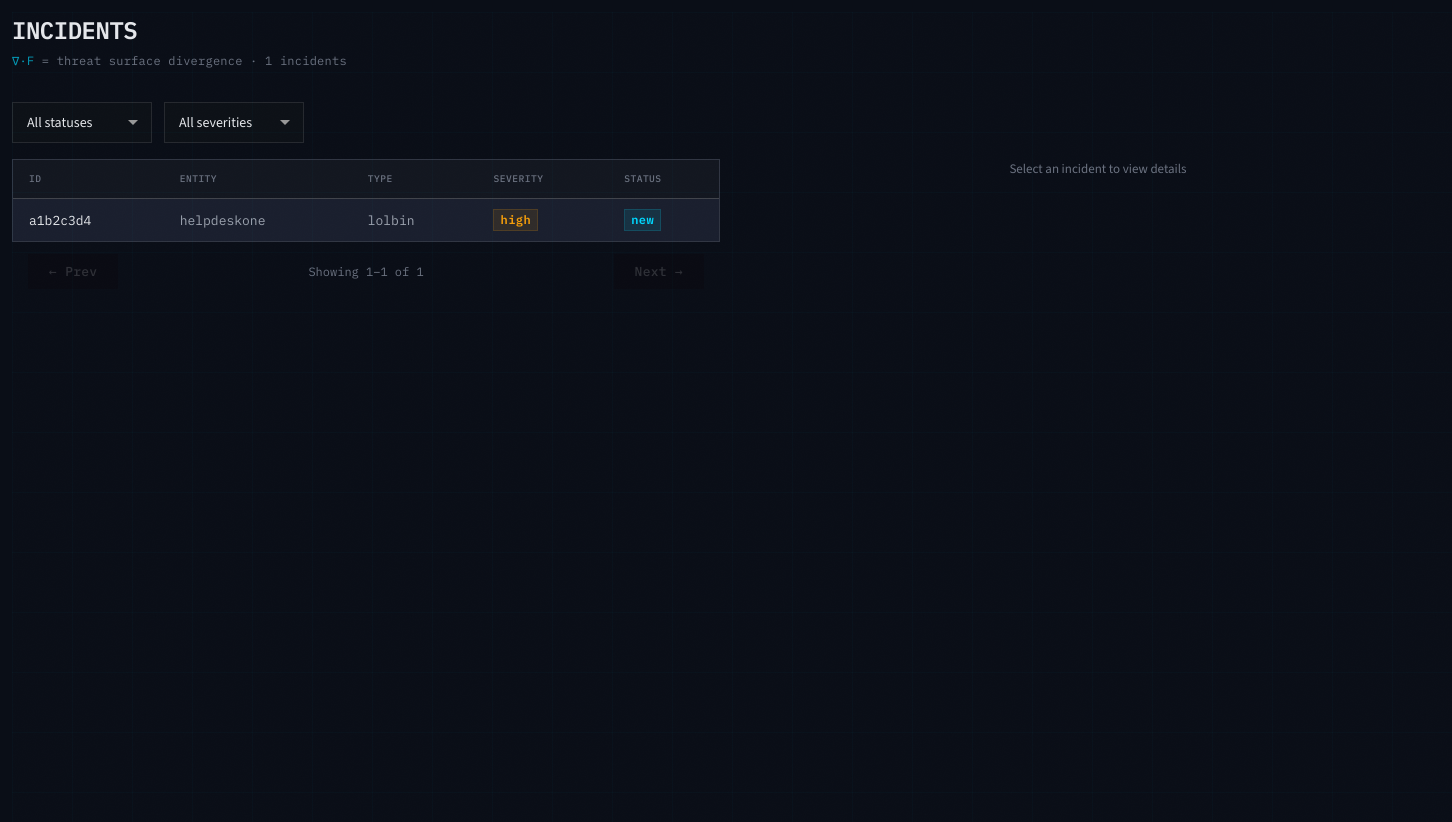
Test case: SupervisorReportCard (Phase 3, R-1/FR-1/D-10) › invalid: banner + deterministic description is authoritative
This screenshot has width=1452, height=822.
Click the text "helpdeskone".
click(258, 220)  # box [164,199,352,241]
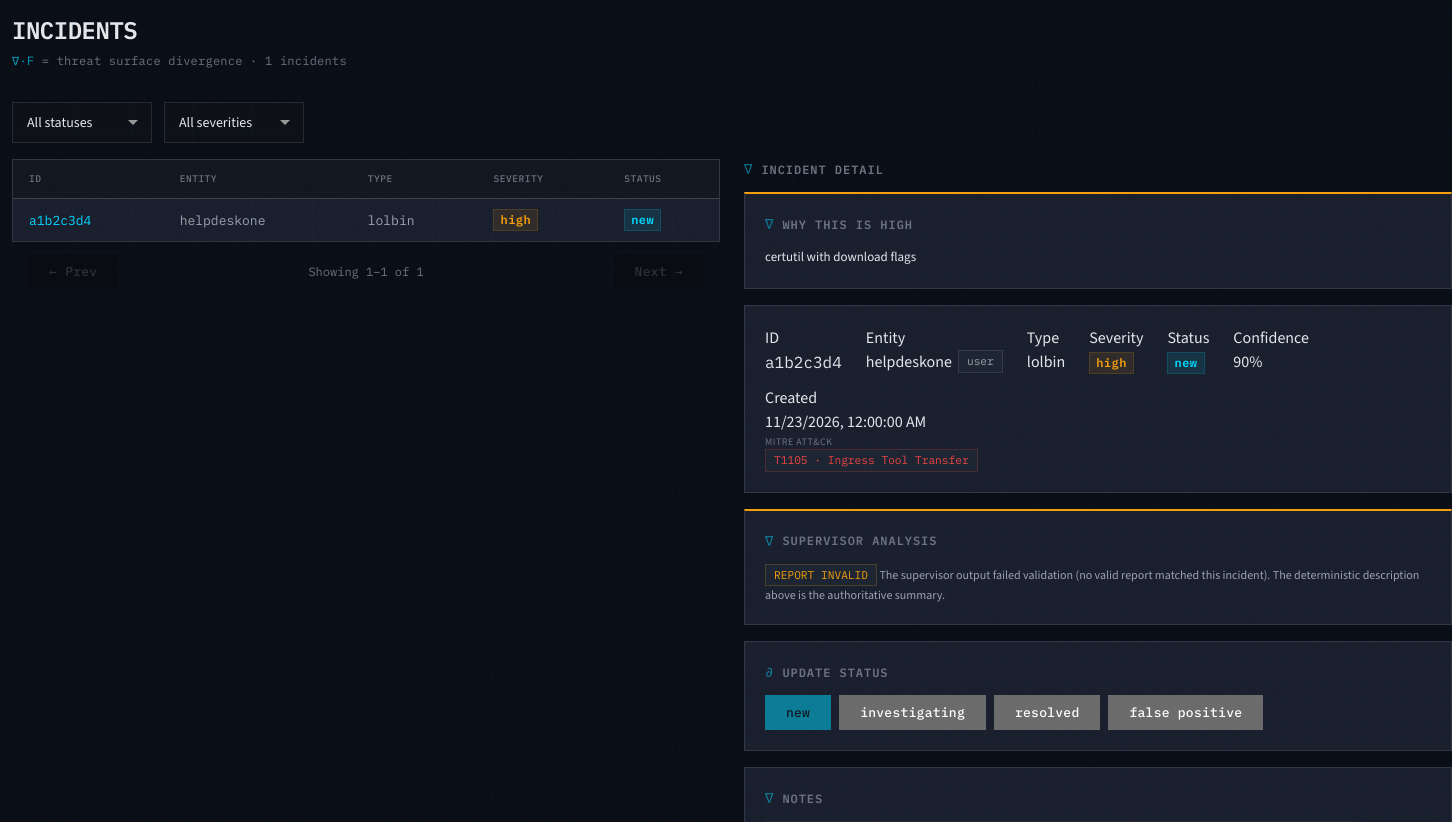
Result: the text "SUPERVISOR ANALYSIS" is shown at [782,533,937,548]
Result: the text "REPORT INVALID" is shown at [765,564,877,586]
Result: the text "no valid report matched this incident" is shown at [879,567,1270,583]
